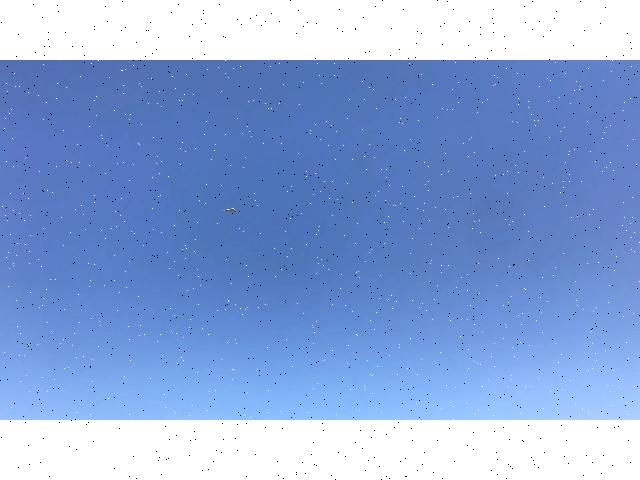Anti-Drone: (219, 200, 241, 214)
